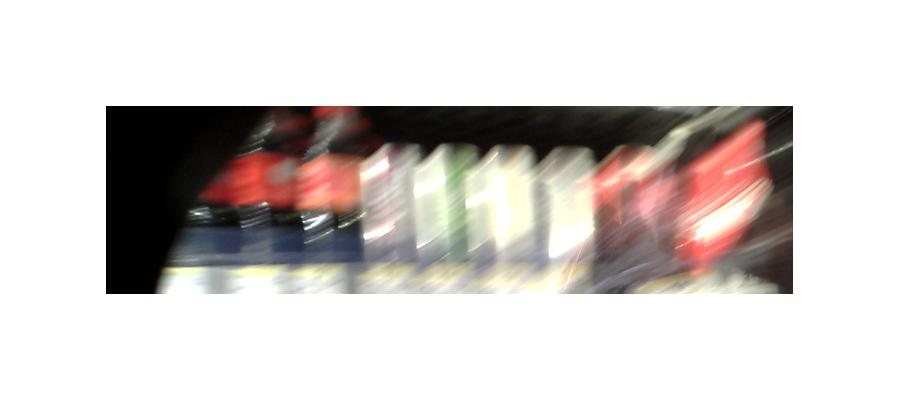bottle: (676, 112, 771, 292), (359, 140, 417, 282), (482, 144, 540, 281), (540, 143, 593, 284)
